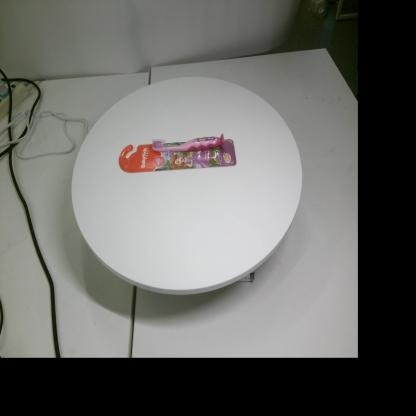Personal Hygiene: (118, 133, 236, 173)
